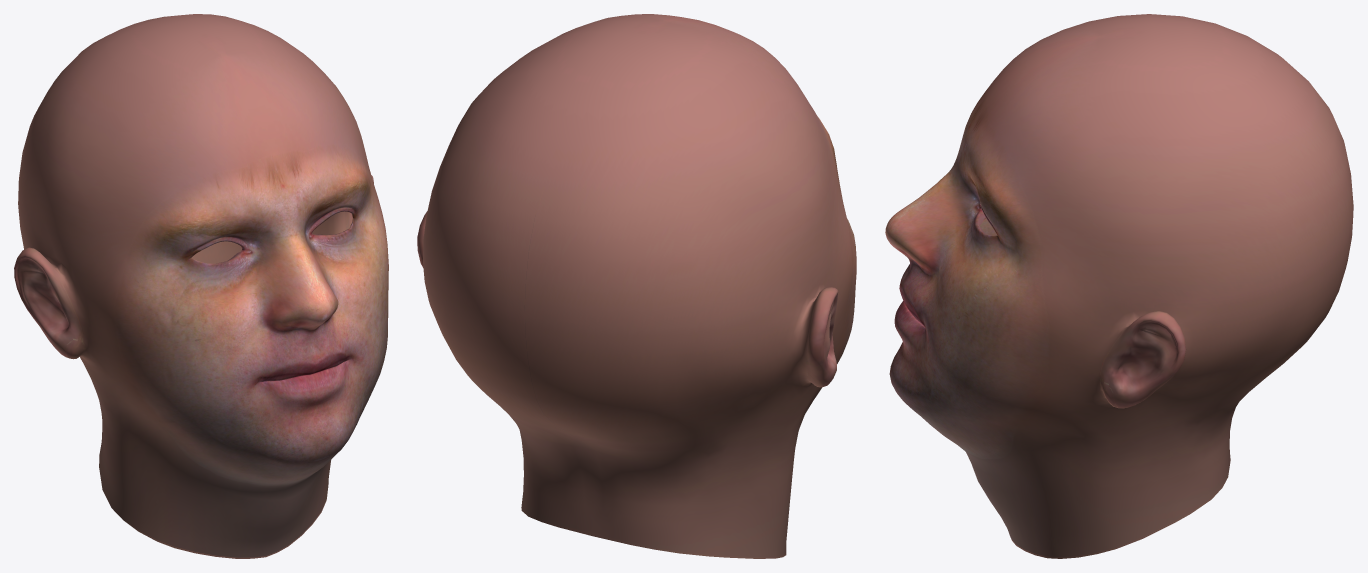
The picture shows the model from 3 angles, left to right: view 1: azimuth 30°, elevation 25°; view 2: azimuth 150°, elevation 25°; view 3: azimuth 270°, elevation 25°; orthographic projection. The views are drawn at different scales.
Parts seen in each view (by area): view 1: FaceGen; view 2: FaceGen; view 3: FaceGen.
Boxes of the visible parts, x1=… form: FaceGen: x1=14, y1=14, x2=388, y2=558; FaceGen: x1=417, y1=14, x2=856, y2=558; FaceGen: x1=885, y1=14, x2=1353, y2=558.
Bounding box in the file's own units: 217 × 281 × 237.
Materials: 1 (1 with a texture image).
